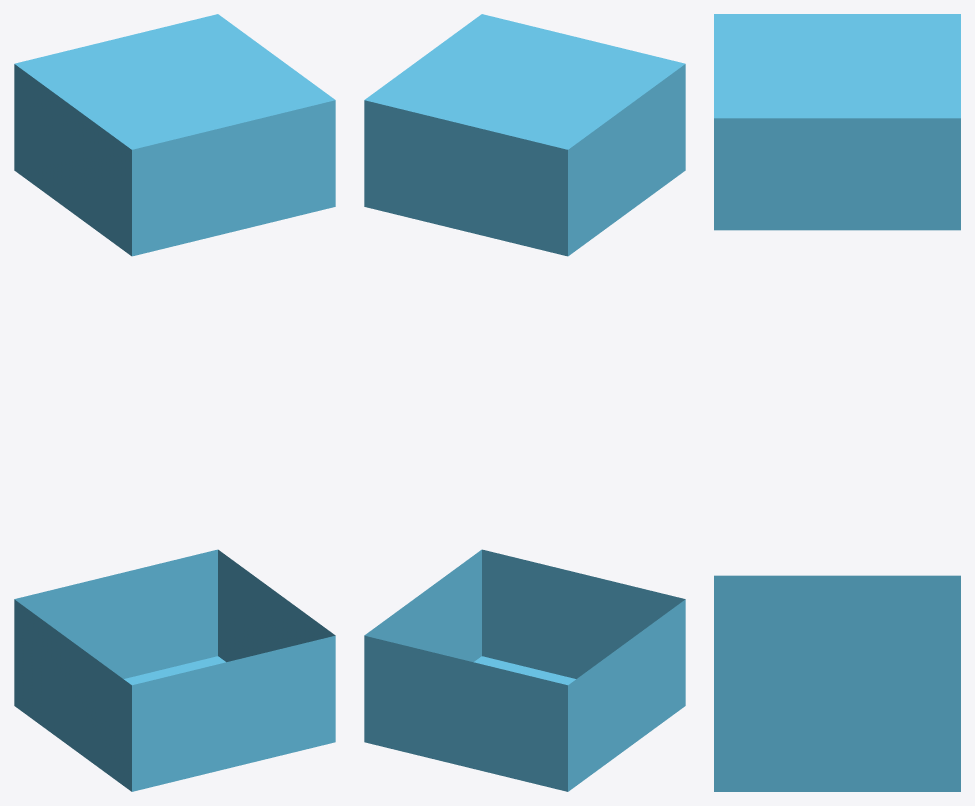
The model's file is sp_panel_editor.dae.
The picture shows the model from 3 angles, left to right: view 1: azimuth 30°, elevation 25°; view 2: azimuth 150°, elevation 25°; view 3: azimuth 270°, elevation 25°; orthographic projection. The views are drawn at different scales.
Visible parts, largest first — view 1: panel_editor; view 2: panel_editor; view 3: panel_editor.
Boxes of the visible parts, x1,y1,x2,y2 form: panel_editor: [14, 14, 335, 791]; panel_editor: [364, 14, 685, 791]; panel_editor: [714, 14, 960, 791].
Size of the model in its own units: 0.02 by 0.02 by 0.0602.
